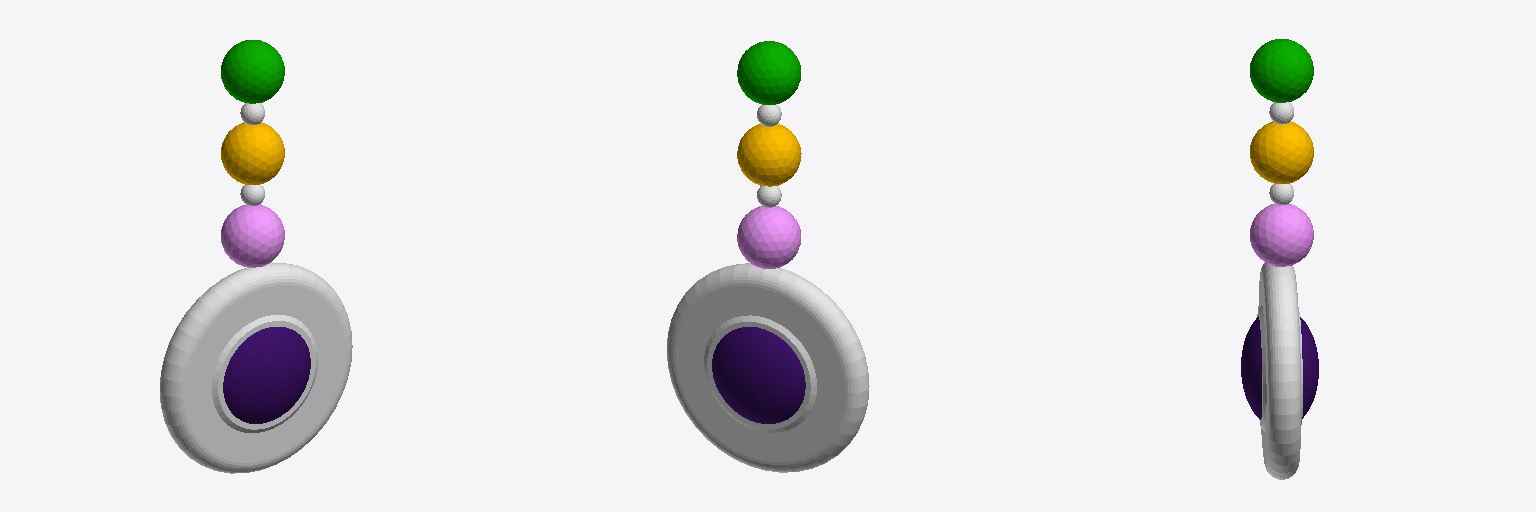
File: mobilo.obj
The picture shows the model from 3 angles: view 1: azimuth 30°, elevation 25°; view 2: azimuth 150°, elevation 25°; view 3: azimuth 270°, elevation 25°; orthographic projection.
Visible parts, largest first — view 1: ChamferCyl010, GeoSphere006, GeoSphere003, GeoSphere001, GeoSphere002; view 2: ChamferCyl010, GeoSphere006, GeoSphere003, GeoSphere001, GeoSphere002; view 3: ChamferCyl010, GeoSphere003, GeoSphere001, GeoSphere002, GeoSphere006.
Boxes of the visible parts, <box> form: ChamferCyl010: <box>160,263,352,473</box>; GeoSphere006: <box>223,327,310,423</box>; GeoSphere003: <box>221,40,284,103</box>; GeoSphere001: <box>221,204,284,267</box>; GeoSphere002: <box>221,122,284,184</box>; ChamferCyl010: <box>667,263,869,472</box>; GeoSphere006: <box>712,327,805,423</box>; GeoSphere003: <box>737,41,800,104</box>; GeoSphere001: <box>737,206,800,268</box>; GeoSphere002: <box>737,124,801,186</box>; ChamferCyl010: <box>1257,262,1302,479</box>; GeoSphere003: <box>1250,39,1313,102</box>; GeoSphere001: <box>1250,204,1313,266</box>; GeoSphere002: <box>1250,121,1313,183</box>; GeoSphere006: <box>1241,316,1318,419</box>.
Bounding box in the file's own units: 17.09 × 36.02 × 5.98.